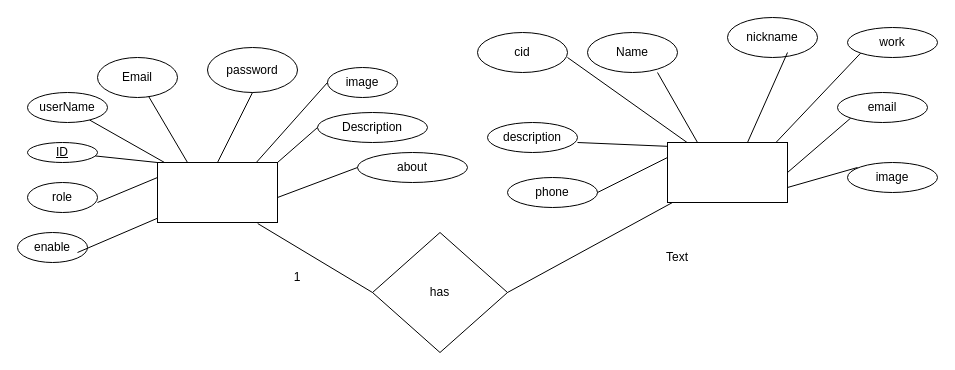
Some shapes in this 955 by 370 pixel diagram are drawn without their labels. The box of each missing label's shape, as (x1, y1, x2, y2) in pixels:
CONTACT: (666, 142, 788, 202)
USER: (156, 162, 278, 222)
